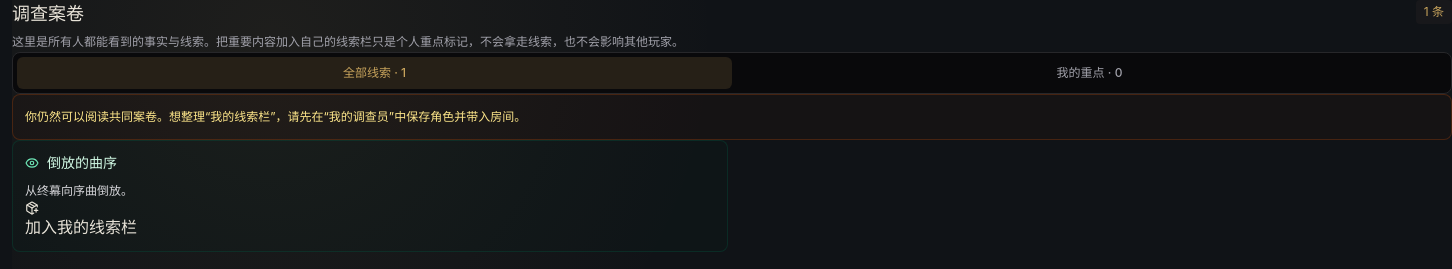
Test case: immersive V2 investigation workspace › keeps the shared case file readable and explains personal focus when no character is present
This screenshot has width=1452, height=269.
Expected: the heading "倒放的曲序" is shown, [47,153,117,173]
Expected: the text "你仍然可以阅读共同案卷。想整理“我的线索栏”，请先在“我的调查员”中保存角色并带入房间。" is shown, [12,94,1451,140]
Click the button "我的重点 · 0": (1090, 73) [732,57,1447,89]
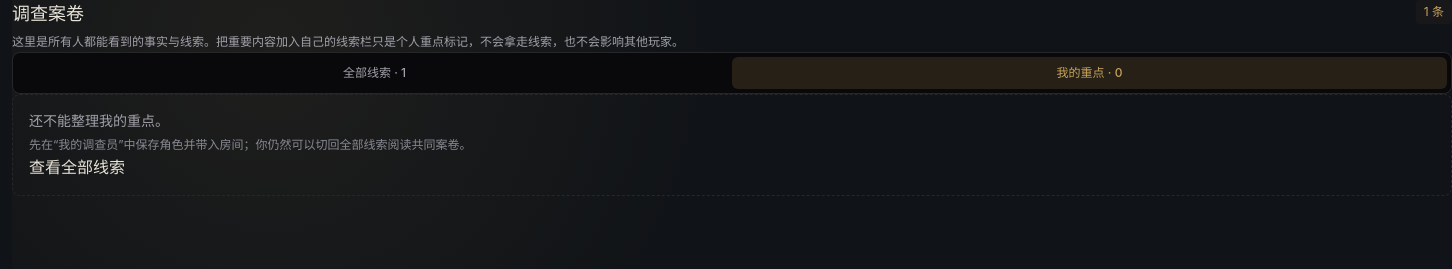
Expected: the text "还不能整理我的重点。" is shown, [29,112,169,129]
Expected: the text "先在“我的调查员”中保存角色并带入房间；你仍然可以切回全部线索阅读共同案卷。" is shown, [29,137,472,152]
Expected: the heading "倒放的曲序" is gone
Click the button "查看全部线索": (77, 167) [29,155,125,179]
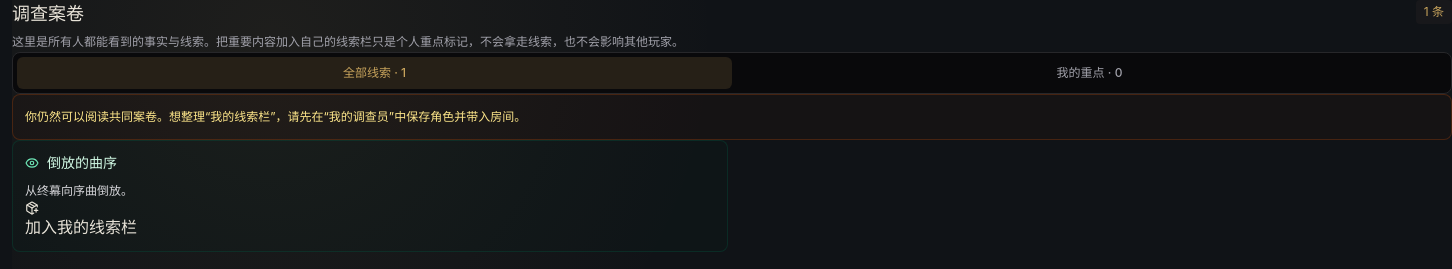
Expected: the heading "倒放的曲序" is shown, [47,153,117,173]
